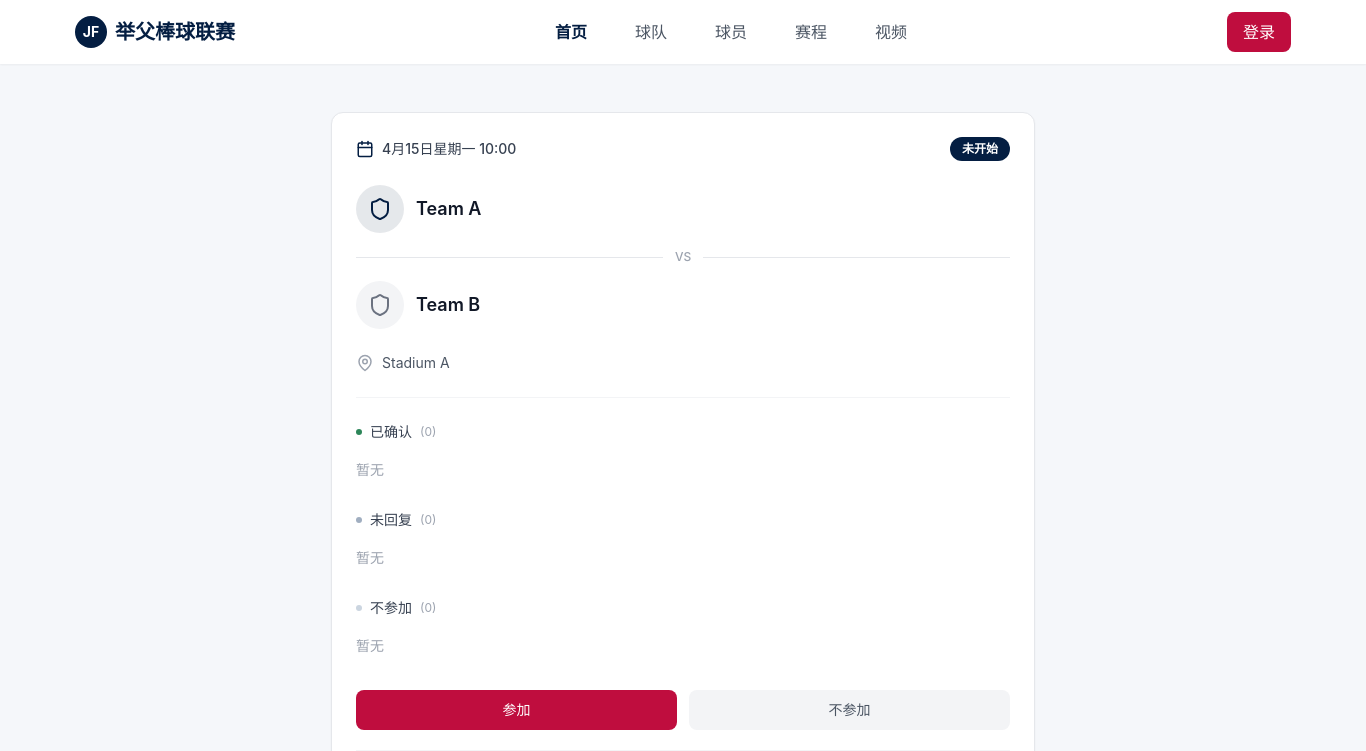
Test: GameDetailPage › shows alert when attendance update fails
The image size is (1366, 751).
Click the button with test id "confirm-button" at (516, 710), box [356,690,677,730]
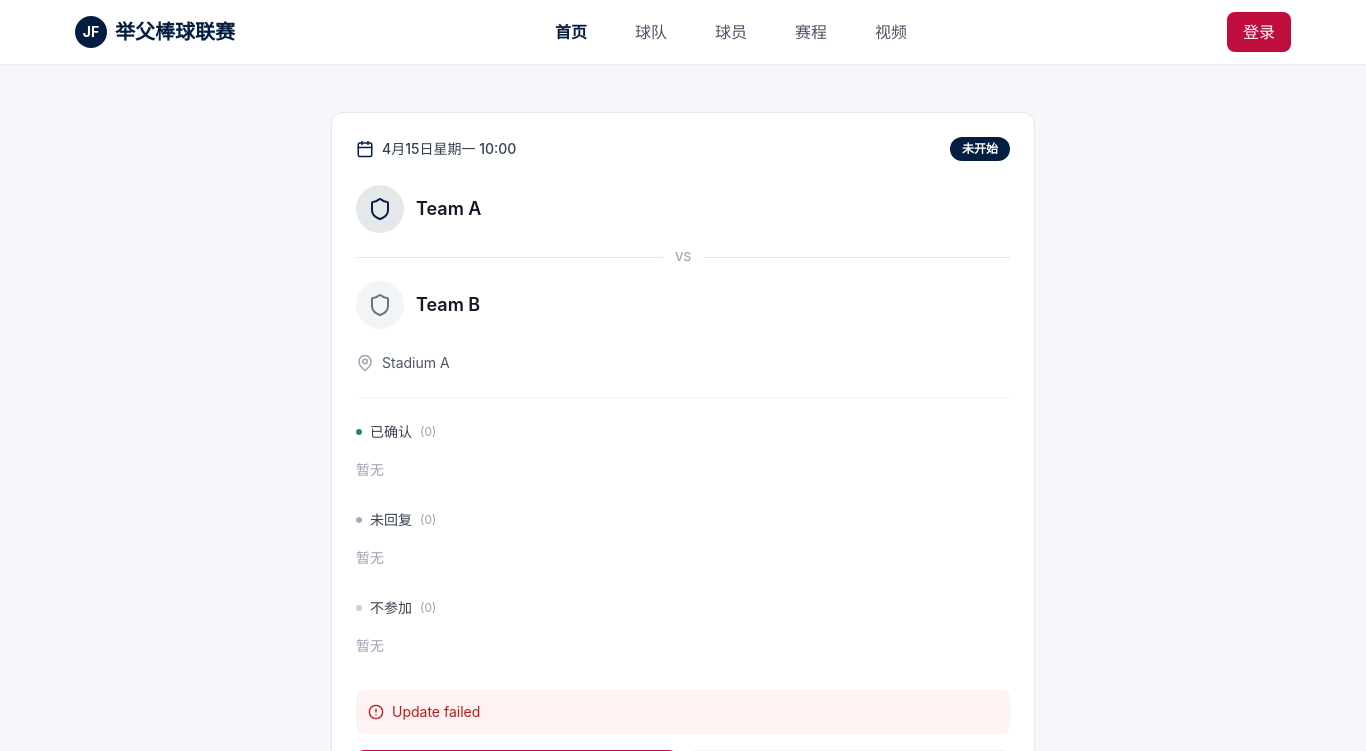
Now the text "Update failed" is shown, box [392,702,480,722]
